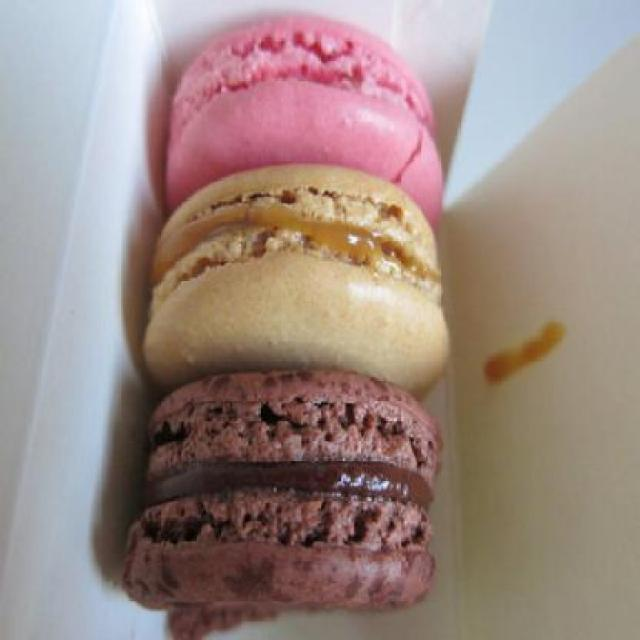Macaron: (126, 18, 444, 626)
